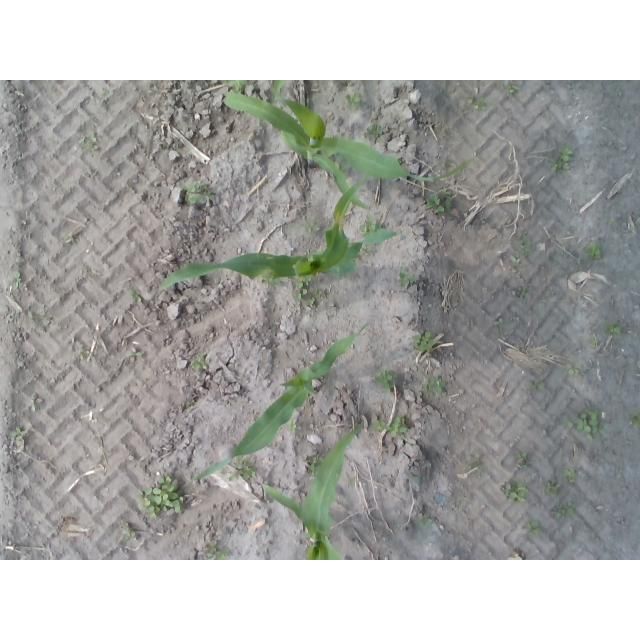Maize: (186, 322, 370, 487), (223, 92, 472, 209), (160, 182, 397, 290), (261, 424, 363, 560), (271, 80, 286, 94)
Weeds: (141, 479, 184, 516), (425, 192, 452, 214), (552, 148, 572, 172), (374, 372, 398, 392), (206, 541, 231, 560), (577, 411, 596, 435), (503, 485, 530, 501), (388, 418, 408, 438), (414, 332, 434, 352), (230, 464, 254, 480), (465, 97, 486, 114), (551, 504, 574, 519), (366, 125, 383, 142), (429, 375, 445, 393), (185, 183, 211, 194), (360, 216, 377, 232), (294, 280, 306, 300), (520, 234, 533, 252), (401, 271, 415, 286), (187, 195, 202, 209), (407, 469, 421, 484), (585, 247, 601, 260), (192, 358, 209, 370), (525, 521, 539, 535), (607, 322, 622, 335), (566, 468, 578, 484), (289, 420, 303, 433), (129, 349, 142, 363), (547, 480, 561, 493), (373, 420, 388, 432), (530, 378, 544, 390), (128, 291, 142, 303), (123, 526, 137, 538), (306, 455, 317, 470), (14, 271, 23, 289), (629, 412, 639, 428), (228, 80, 244, 90), (517, 452, 530, 464), (345, 92, 359, 103), (513, 287, 526, 298), (472, 455, 485, 466), (303, 221, 317, 231), (568, 362, 579, 374), (90, 138, 98, 154), (79, 349, 91, 359), (511, 255, 522, 265), (315, 287, 325, 297), (305, 296, 315, 306), (421, 518, 432, 526), (11, 428, 25, 434), (507, 85, 517, 93), (362, 246, 370, 255)
